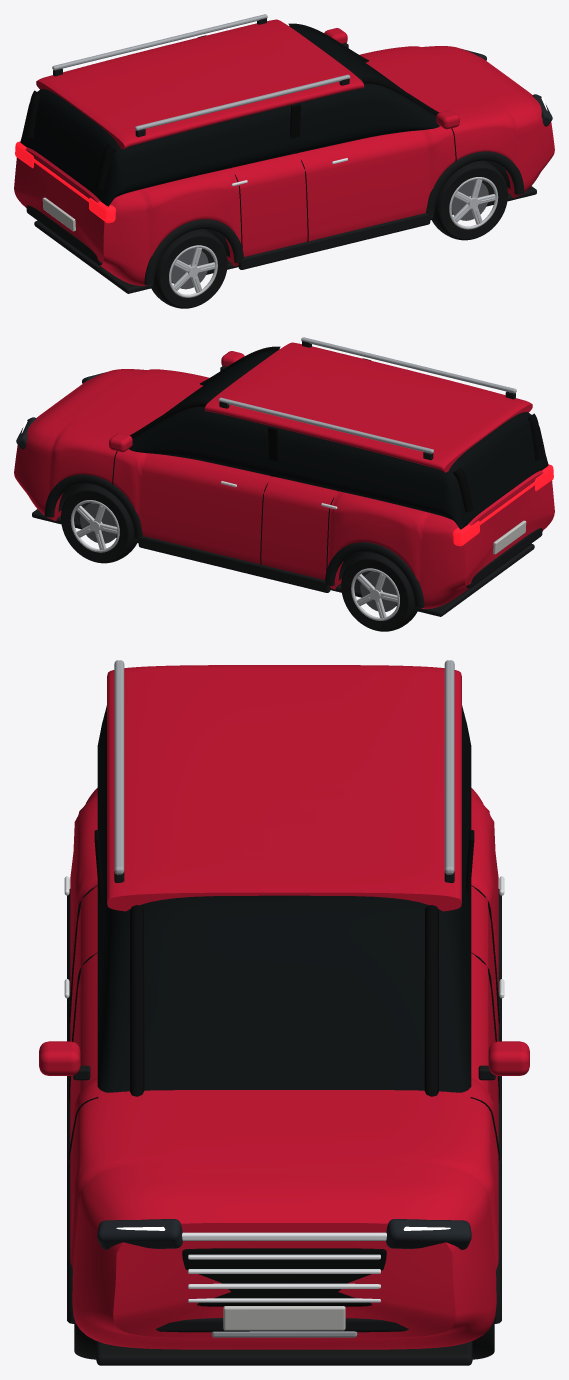
The model's file is honda-elevate.glb.
3 views of the same model, one above another, from view 1: azimuth 30°, elevation 25°; view 2: azimuth 150°, elevation 25°; view 3: azimuth 270°, elevation 25° (orthographic). The views are drawn at different scales.
Visible parts, largest first — view 1: Body, Glasshouse, Roof, Trim (×5), Tyre (×2), Silver (×2), Pillar (×3), Disc (×2), Rim (×2), Plate, Taillamp, GlossBlack (+1 smaller); view 2: Body, Glasshouse, Roof, Trim (×5), Tyre (×2), Silver (×2), Pillar (×3), Disc (×2), Rim (×2), Plate, Taillamp, GlossBlack (+1 smaller); view 3: Body, Roof, Glasshouse, Trim (×2), GlossBlack, Chrome (×5), Silver (×3), Pillar (×2), Headlamp (×2), Plate, Paint (×2).
Part boxes in pixels (x1,y1,x2,y2): Body: (14, 46, 554, 285); Glasshouse: (20, 27, 439, 206); Roof: (36, 19, 364, 149); Trim (×5): (26, 151, 536, 293); Tyre (×2): (151, 160, 507, 308); Silver (×2): (52, 14, 350, 130); Pillar (×3): (25, 77, 439, 189); Disc (×2): (171, 179, 488, 289); Rim (×2): (169, 177, 498, 297); Plate: (42, 197, 75, 231); Taillamp: (89, 197, 115, 223); GlossBlack: (289, 104, 300, 154); Body: (14, 369, 554, 608); Glasshouse: (129, 350, 548, 529); Roof: (204, 342, 532, 472); Trim (×5): (32, 474, 542, 616); Tyre (×2): (61, 483, 417, 631); Silver (×2): (218, 337, 516, 453); Pillar (×3): (130, 400, 543, 512); Disc (×2): (80, 502, 397, 611); Rim (×2): (70, 500, 399, 620); Plate: (493, 520, 526, 554); Taillamp: (453, 520, 479, 546); GlossBlack: (268, 427, 279, 477); Body: (70, 788, 498, 1349); Roof: (107, 665, 461, 911); Glasshouse: (97, 705, 471, 1092); Trim (×2): (96, 1318, 472, 1365); GlossBlack: (182, 1248, 386, 1306); Chrome (×5): (182, 1232, 386, 1302); Silver (×3): (114, 660, 454, 1337); Pillar (×2): (130, 905, 438, 1096); Headlamp (×2): (97, 1219, 471, 1249); Plate: (223, 1306, 345, 1330); Paint (×2): (39, 1041, 529, 1075).
Size of the model in its own units: 4.32 by 1.69 by 2.01.
